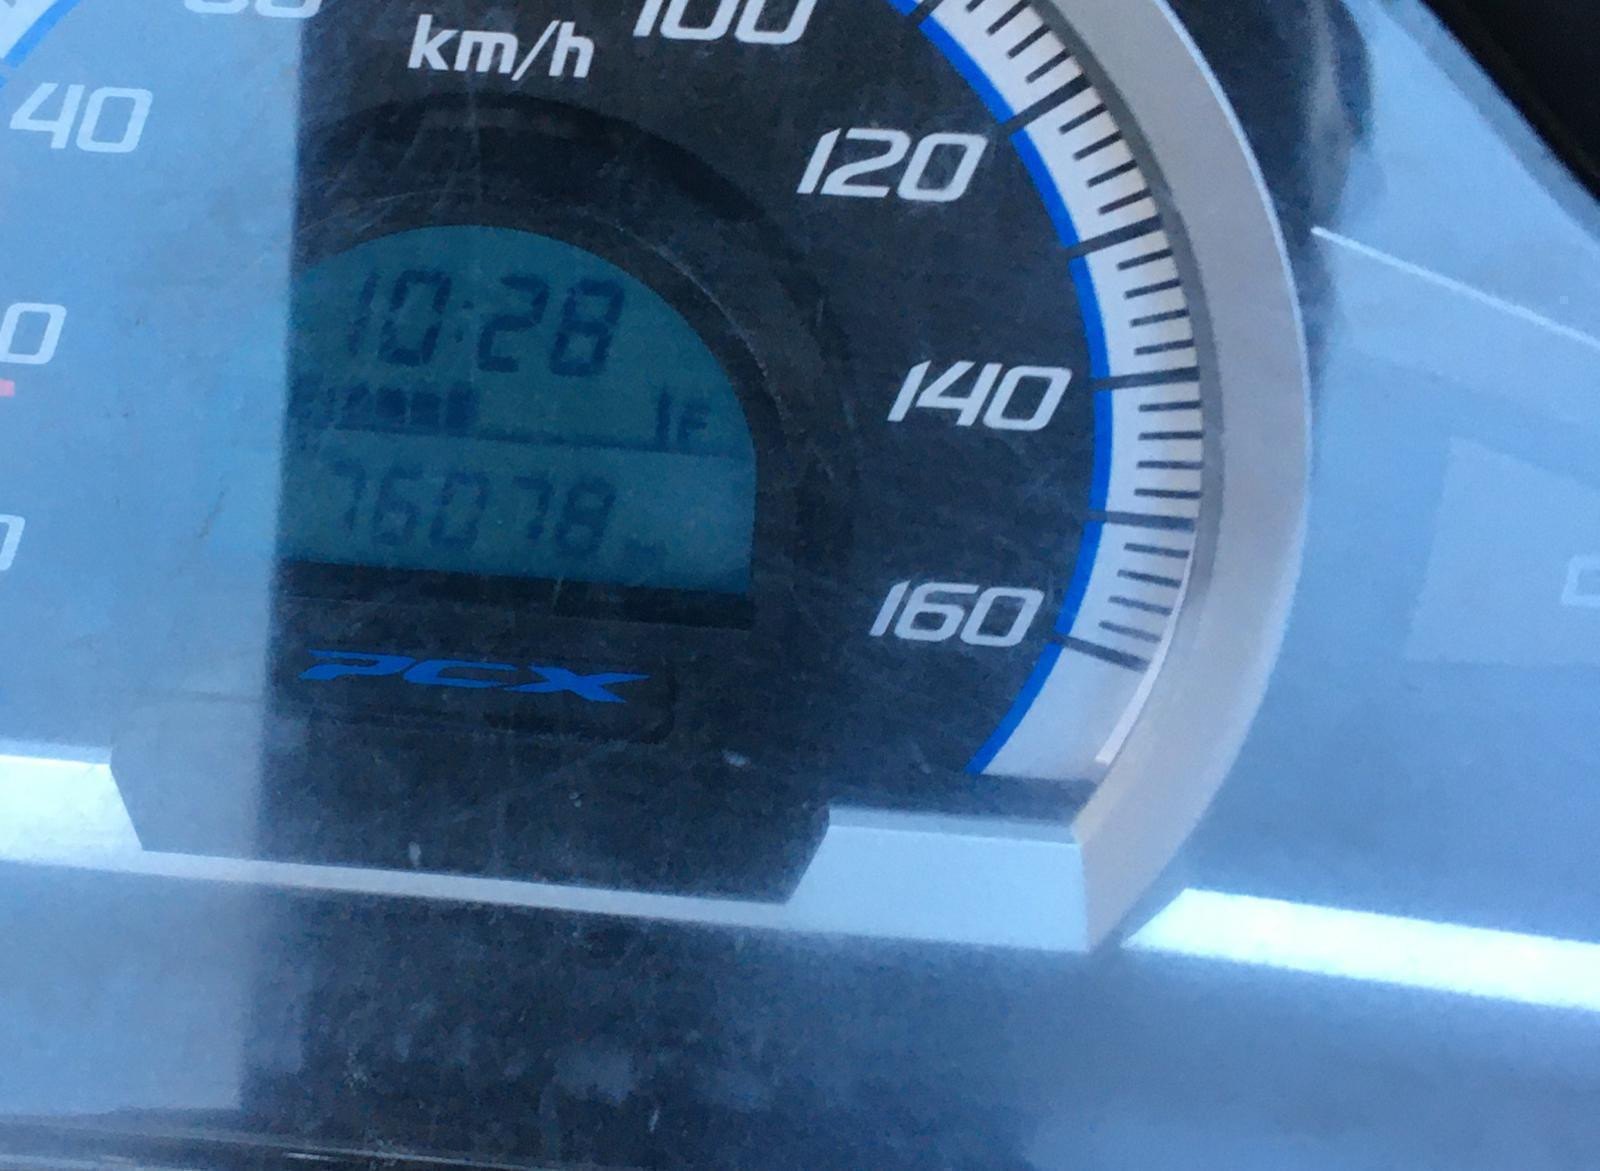0: (385, 262, 451, 368), (429, 468, 489, 560)
1: (339, 261, 383, 360)
2: (477, 266, 552, 376)
6: (374, 462, 427, 554)
7: (507, 466, 554, 559), (317, 454, 366, 538)
8: (552, 277, 626, 380), (553, 464, 616, 566)
X: (286, 368, 325, 423), (452, 284, 480, 360), (678, 397, 714, 445)
odometer: (116, 209, 791, 631)
